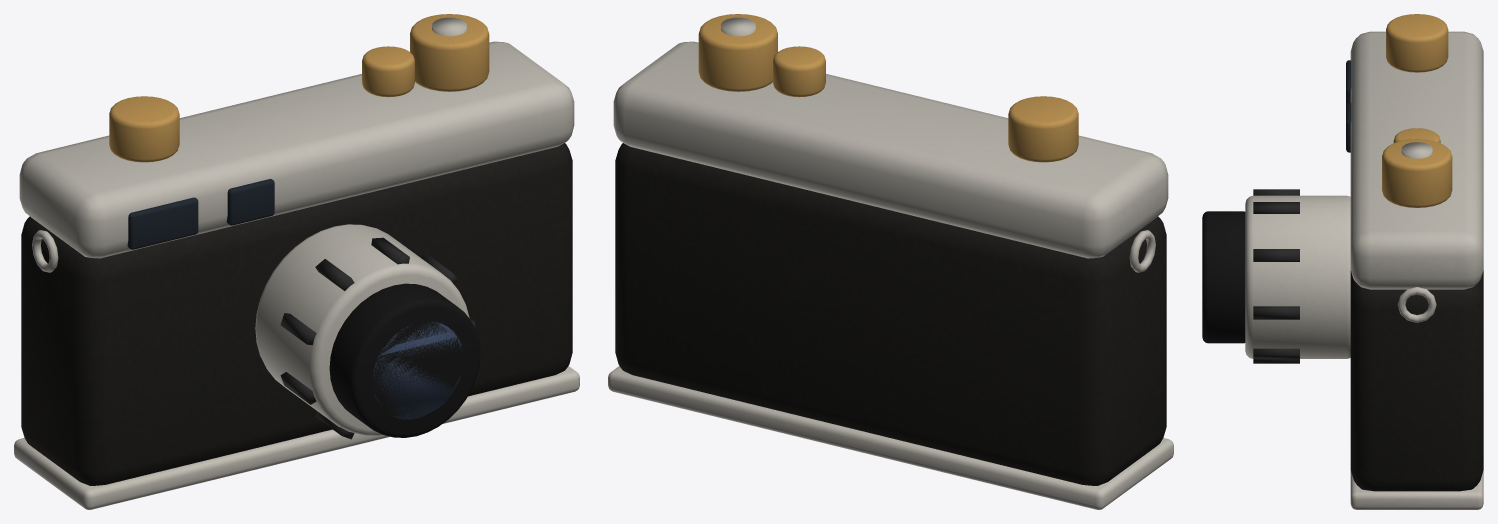
Rendered from keepsake-film-camera.glb.
The picture shows the model from 3 angles, left to right: view 1: azimuth 30°, elevation 25°; view 2: azimuth 150°, elevation 25°; view 3: azimuth 270°, elevation 25°; orthographic projection. The views are drawn at different scales.
Visible parts, largest first — view 1: keepsake-film-camera; view 2: keepsake-film-camera; view 3: keepsake-film-camera.
Boxes of the visible parts, left/top/right/bottom form: keepsake-film-camera: left=14, top=14, right=579, bottom=509; keepsake-film-camera: left=608, top=14, right=1173, bottom=509; keepsake-film-camera: left=1202, top=14, right=1483, bottom=509.
Bounding box in the file's own units: 0.1325 × 0.09 × 0.0712.
1 material, 1 textured.
